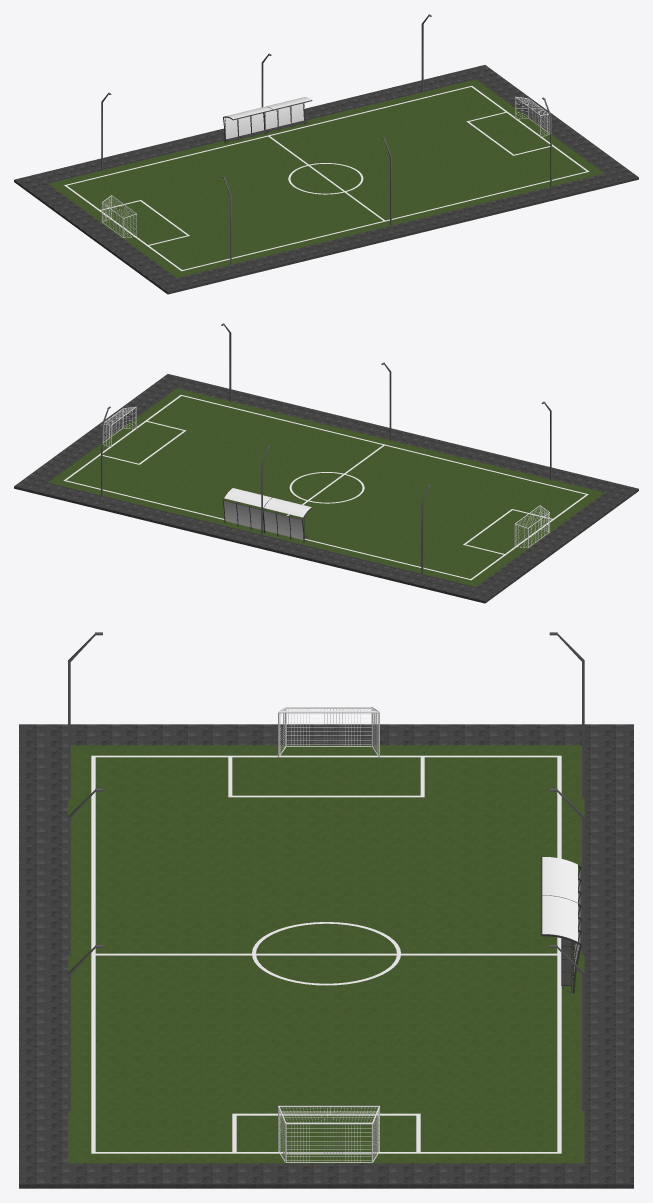
The model's file is football_map.glb.
3 renders of one model, top to bottom at view 1: azimuth 30°, elevation 25°; view 2: azimuth 150°, elevation 25°; view 3: azimuth 270°, elevation 25°, orthographic. The views are drawn at different scales.
Parts seen in each view (by area): view 1: MiniStadion.001, MiniStadion.007, MiniStadion.008, Post, MiniStadion.002, MiniStadion.005; view 2: MiniStadion.001, MiniStadion.007, Post, MiniStadion.008, MiniStadion.002, MiniStadion.005; view 3: MiniStadion.001, MiniStadion.007, MiniStadion.008, MiniStadion.002, Post, MiniStadion.005.
Part boxes in pixels (<box>): MiniStadion.001: <box>48,79,604,277</box>; MiniStadion.007: <box>14,65,638,294</box>; MiniStadion.008: <box>64,86,589,271</box>; Post: <box>223,97,312,143</box>; MiniStadion.002: <box>101,96,550,237</box>; MiniStadion.005: <box>101,15,551,264</box>; MiniStadion.001: <box>48,388,604,586</box>; MiniStadion.007: <box>14,374,638,603</box>; Post: <box>222,488,312,542</box>; MiniStadion.008: <box>63,395,588,580</box>; MiniStadion.002: <box>101,406,549,547</box>; MiniStadion.005: <box>101,324,551,573</box>; MiniStadion.001: <box>68,745,584,1163</box>; MiniStadion.007: <box>19,724,633,1188</box>; MiniStadion.008: <box>91,755,561,1153</box>; MiniStadion.002: <box>278,707,379,1162</box>; Post: <box>541,857,582,993</box>; MiniStadion.005: <box>68,633,584,1111</box>.
Size of what is drawn, in the model's own units: 43.24 by 7.44 by 24.45.
Materials: 7 (2 with a texture image).
